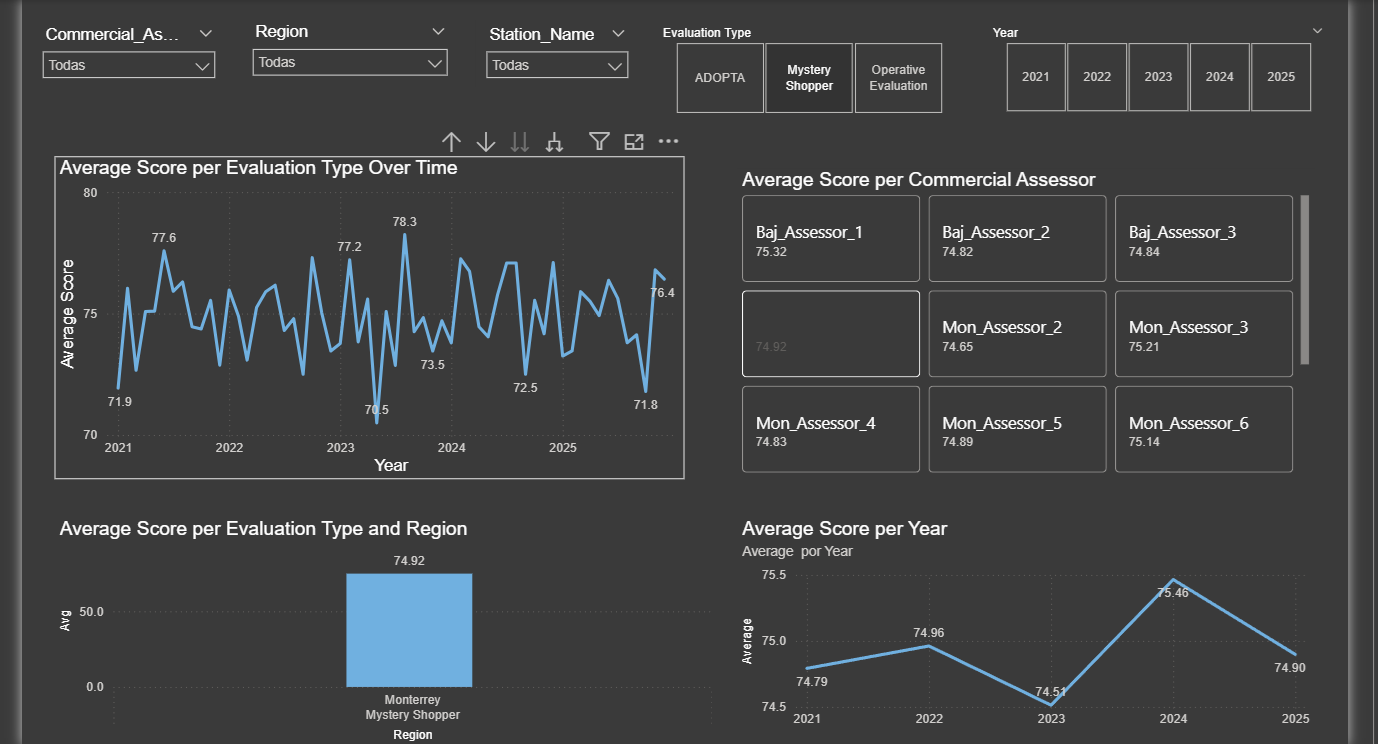

This screenshot's page, from the dashboard's own definition file:
{"tool":"powerbi","page":{"name":"Página 1","canvas":[1280,720],"ordinal":0},"visuals":[{"type":"slicer","fields":{"Values":["oxxo_gas_dim_stations.Commercial_Assessor"]},"box":[9.7,19.3,187,77.2],"z":0},{"type":"slicer","fields":{"Values":["oxxo_gas_dim_stations.Region"]},"box":[212.3,16.9,208.7,85.7],"z":1000},{"type":"slicer","fields":{"Values":["oxxo_gas_dim_stations.Station_Name"]},"box":[437.9,19.3,156.8,95.3],"z":2000},{"type":"lineChart","title":"Average Score per Evaluation Type Over Time","fields":{"Y":["DateTable.Avg"],"Series":["Encuestas.Column1"],"Category":["DateTable.Date.Variación.Jerarquía de fechas.Año","DateTable.Date.Variación.Jerarquía de fechas.Trimestre","DateTable.Date.Variación.Jerarquía de fechas.Mes","DateTable.Date.Variación.Jerarquía de fechas.Día"]},"box":[31.8,150.4,607.7,311.8],"z":3000},{"type":"slicer","fields":{"Values":["DateTable.Year"]},"box":[924.1,19.3,343.8,95.3],"z":4000},{"type":"advancedSlicerVisual","title":"Average Score per Commercial Assessor","fields":{"Values":["oxxo_gas_dim_stations.Commercial_Assessor"],"Label":["DateTable.Avg"]},"box":[689.7,162.6,557.6,299.6],"z":5000},{"type":"slicer","fields":{"Values":["Encuestas.Column1"]},"box":[605.6,19.3,306.4,96.5],"z":6000},{"type":"clusteredColumnChart","title":"Average Score per Evaluation Type and Region","fields":{"Category":["oxxo_gas_dataset_1.Evaluation Type","oxxo_gas_dim_stations.Region"],"Y":["DateTable.Avg"]},"box":[31.8,498.9,639.5,221.3],"z":7000},{"type":"lineChart","title":"Average Score per Year","fields":{"Category":["DateTable.Year"],"Y":["DateTable.Avg"]},"box":[690,499,558,221],"z":8000}]}

Visuals, with their boxes in screenshot pixels (x1, y1, x2, y2):
slicer - oxxo_gas_dim_stations.Commercial_Assessor: [0, 0, 197, 77]
slicer - oxxo_gas_dim_stations.Region: [214, 0, 442, 83]
slicer - oxxo_gas_dim_stations.Station_Name: [461, 0, 632, 97]
"Average Score per Evaluation Type Over Time" lineChart: [17, 136, 681, 477]
slicer - DateTable.Year: [993, 0, 1369, 97]
"Average Score per Commercial Assessor" advancedSlicerVisual: [736, 149, 1346, 477]
slicer - Encuestas.Column1: [644, 0, 979, 98]
"Average Score per Evaluation Type and Region" clusteredColumnChart: [17, 517, 716, 743]
"Average Score per Year" lineChart: [737, 517, 1347, 743]
